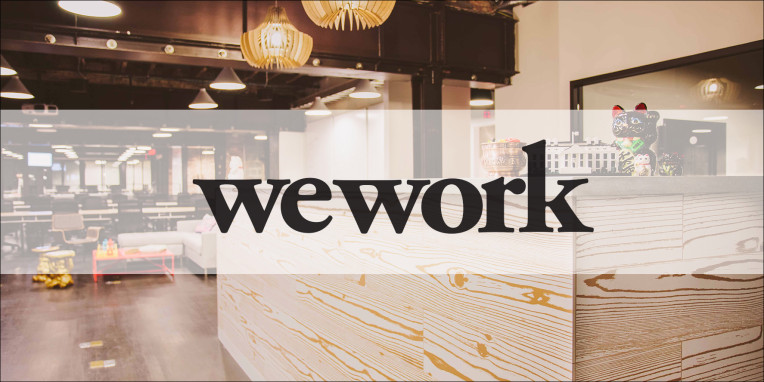wework: (187, 137, 598, 237)
